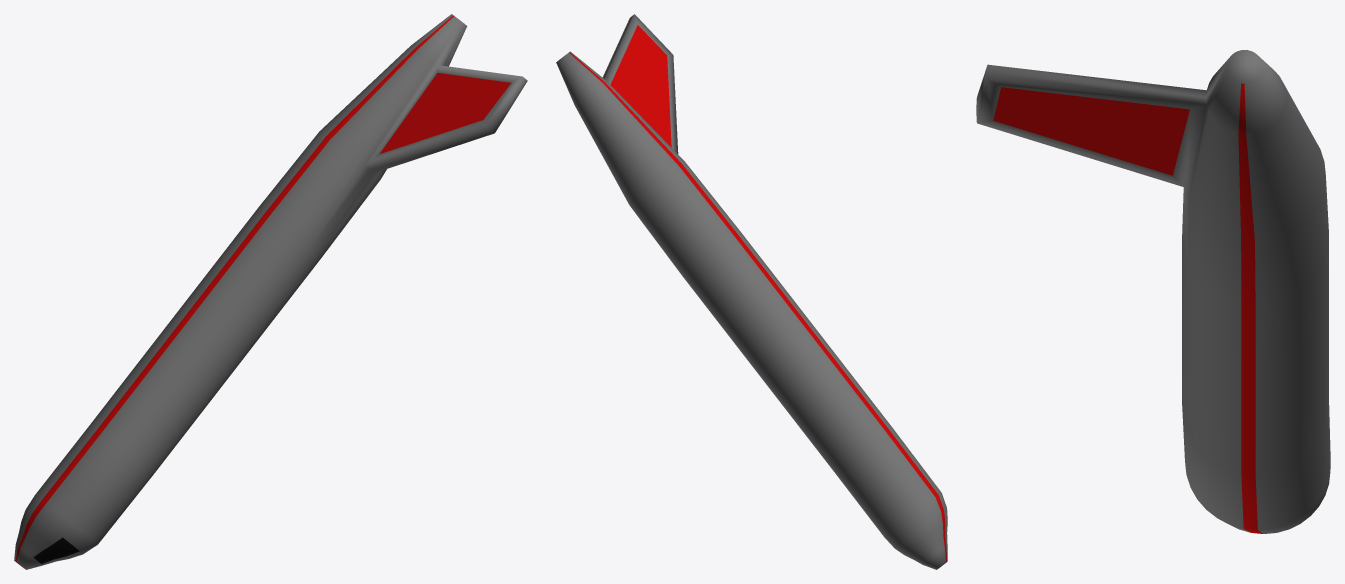
The model's file is avion.obj.
3 views of the same model, side by side, from view 1: azimuth 30°, elevation 25°; view 2: azimuth 150°, elevation 25°; view 3: azimuth 270°, elevation 25° (orthographic). The views are drawn at different scales.
Visible parts, largest first — view 1: Cylinder; view 2: Cylinder; view 3: Cylinder.
Part boxes in pixels (left/top/right/bottom): Cylinder: left=14, top=14, right=527, bottom=569; Cylinder: left=556, top=14, right=947, bottom=569; Cylinder: left=976, top=50, right=1330, bottom=533.
Size of the model in its own units: 1.65 by 1.65 by 0.6358.
